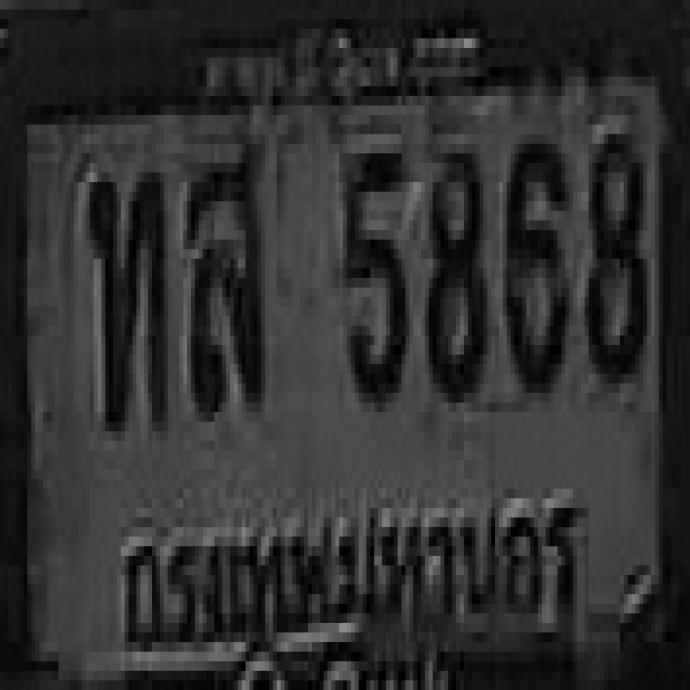5: (339, 139, 402, 399)
6: (501, 133, 563, 384)
8: (423, 138, 482, 391), (582, 126, 642, 374)
A23: (85, 163, 164, 423)
A40: (184, 139, 259, 408)
BKK: (112, 480, 590, 651)
